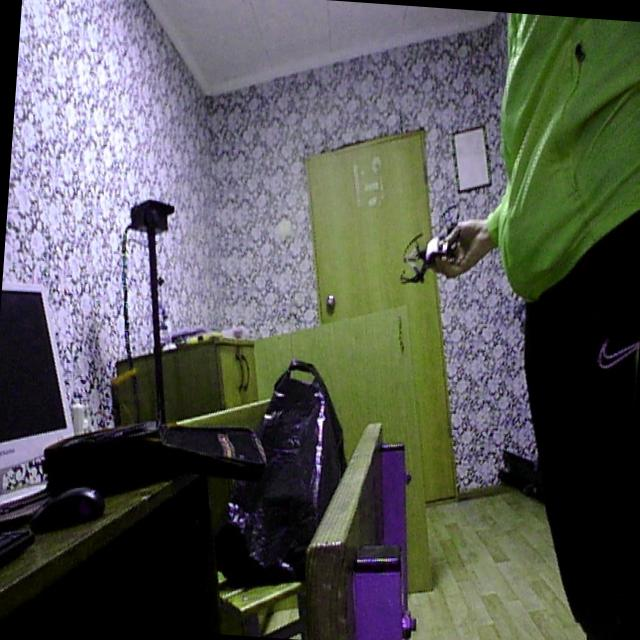drone: (396, 210, 472, 297)
